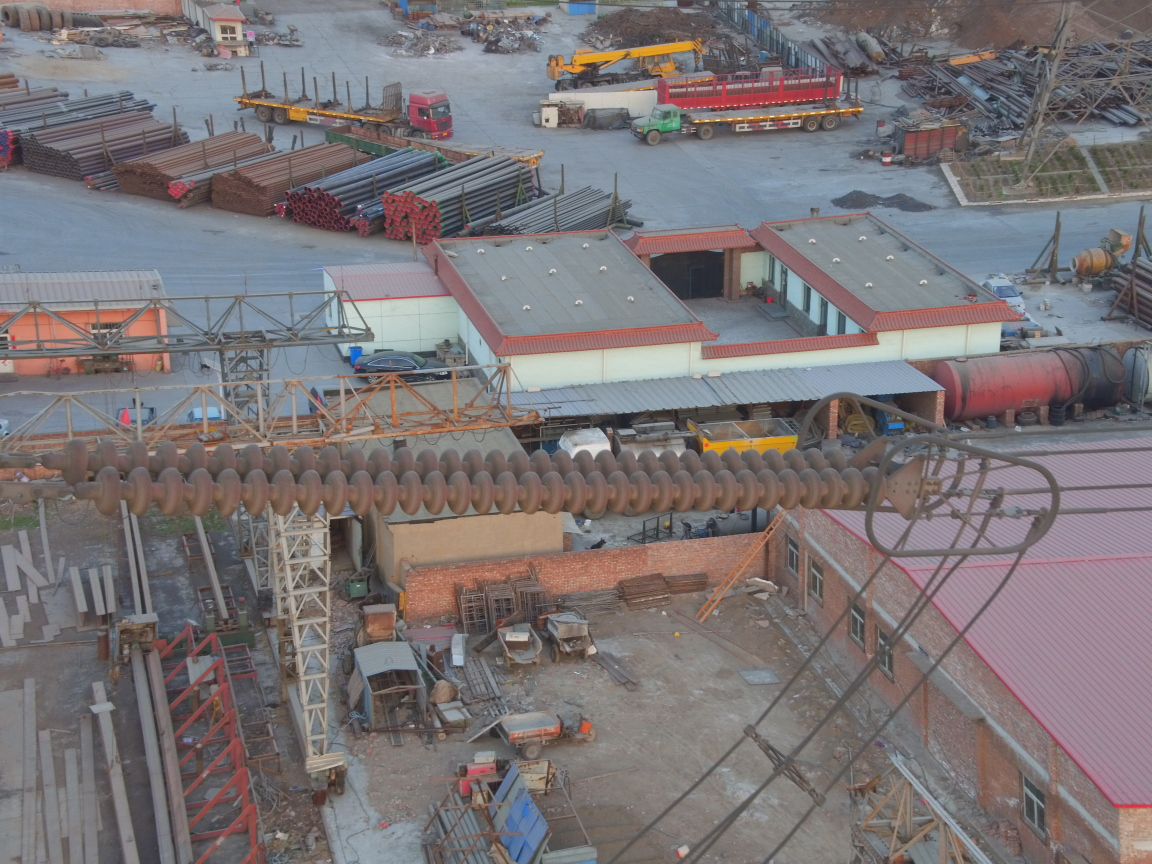insulator: (1, 433, 907, 517)
